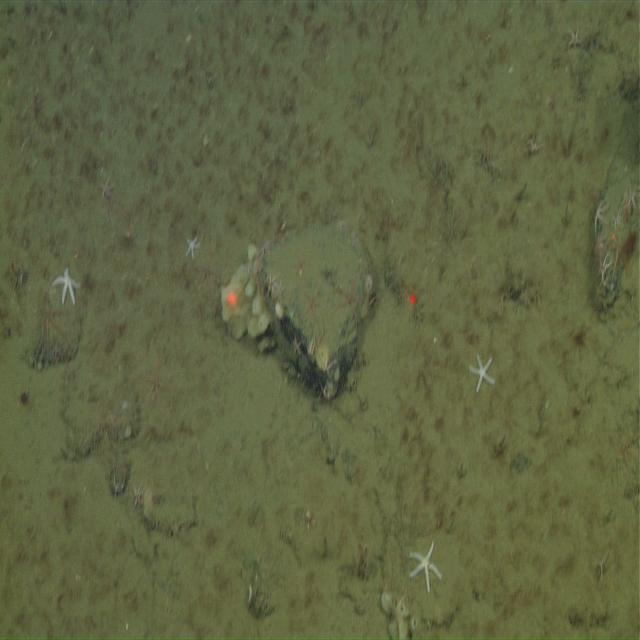Brittle Star: (136, 349, 178, 420), (591, 198, 611, 236)
Not Brittle Star: (407, 534, 444, 596), (0, 279, 20, 360), (49, 262, 82, 310), (468, 349, 498, 397), (568, 320, 591, 357), (184, 230, 201, 262), (16, 385, 33, 413)
